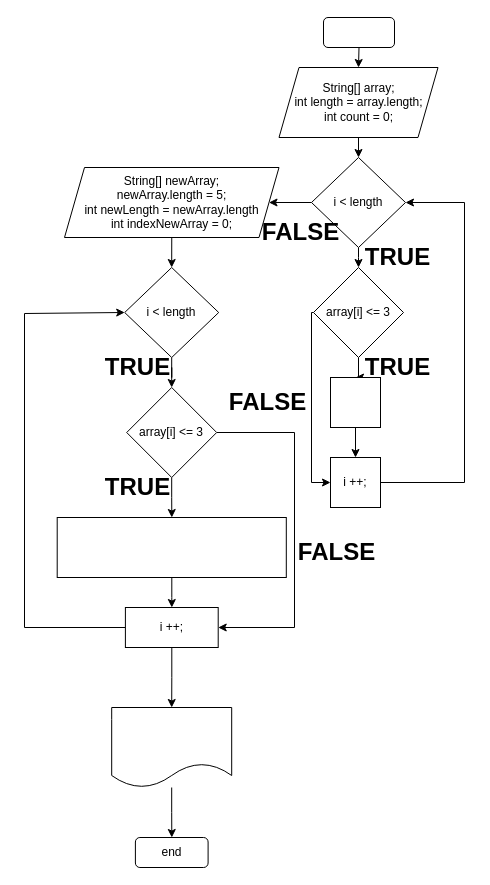
Image size: 490x885. Some labels were removed from this diagram. The shapes that lost their labels are listed below. From the top down, each one's centre as x and y in pixels, then its label:
the point at 358,32: start
the point at 355,402: count ++;
the point at 171,547: newArray[indexNewArray] = array[i] indexNewArray ++;
the point at 171,747: print newArray
